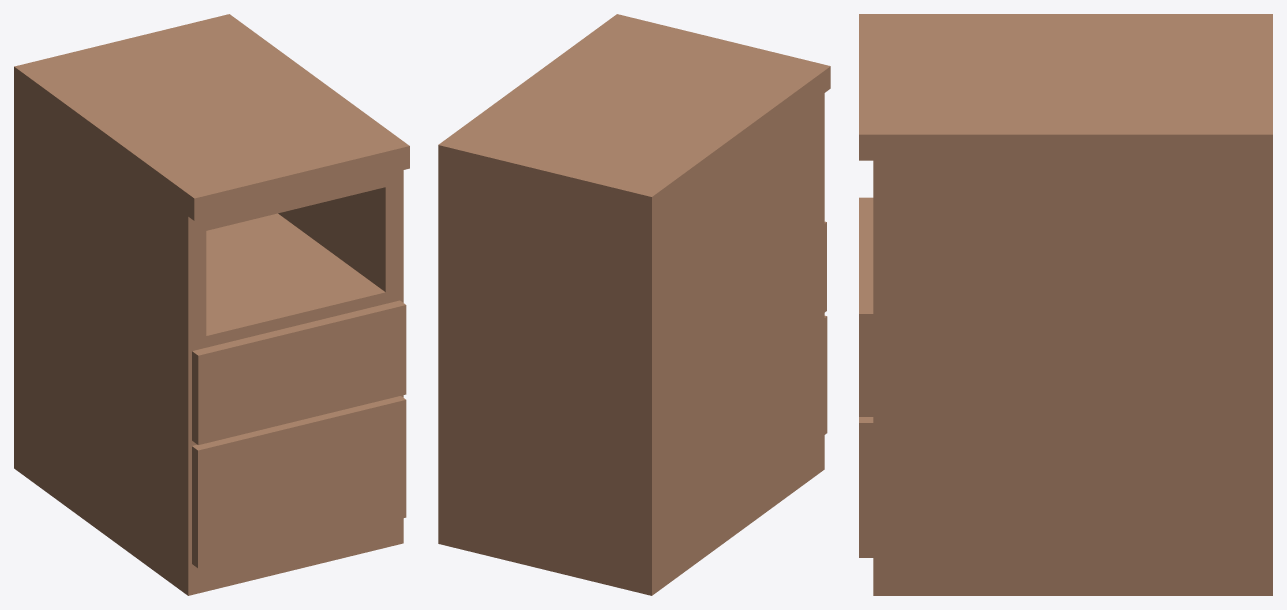
The model's file is 477_サイドテーブル.glb.
3 renders of one model, left to right at view 1: azimuth 30°, elevation 25°; view 2: azimuth 150°, elevation 25°; view 3: azimuth 270°, elevation 25°, orthographic. The views are drawn at different scales.
Visible parts, largest first — view 1: body, hikidashi_shita, hikidashi_ue.; view 2: body; view 3: body, hikidashi_ue., hikidashi_shita.
Boxes of the visible parts, x1=… form: body: x1=14, y1=14, x2=409, y2=595; hikidashi_shita: x1=192, y1=396, x2=406, y2=568; hikidashi_ue.: x1=192, y1=300, x2=406, y2=444; body: x1=438, y1=14, x2=830, y2=595; body: x1=859, y1=14, x2=1272, y2=595; hikidashi_ue.: x1=859, y1=197, x2=873, y2=416; hikidashi_shita: x1=859, y1=417, x2=873, y2=557.
Size of the model in its own units: 0.3 by 0.535 by 0.435.
